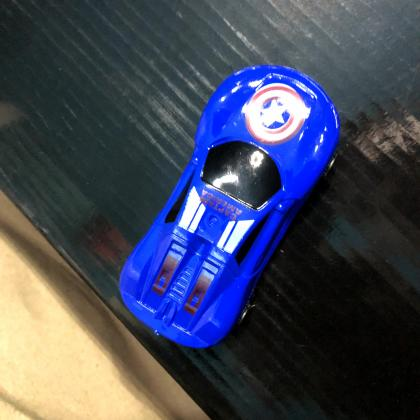Car: (118, 65, 341, 351)
